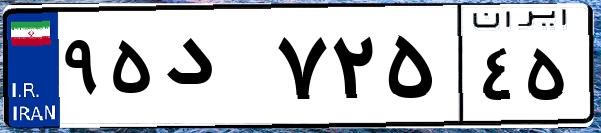2: (330, 28, 385, 110)
4: (475, 38, 525, 113)
5: (385, 28, 445, 110), (525, 38, 570, 115), (110, 28, 158, 98)
7: (270, 28, 330, 110)
9: (57, 26, 110, 100)
د: (158, 20, 270, 120)
